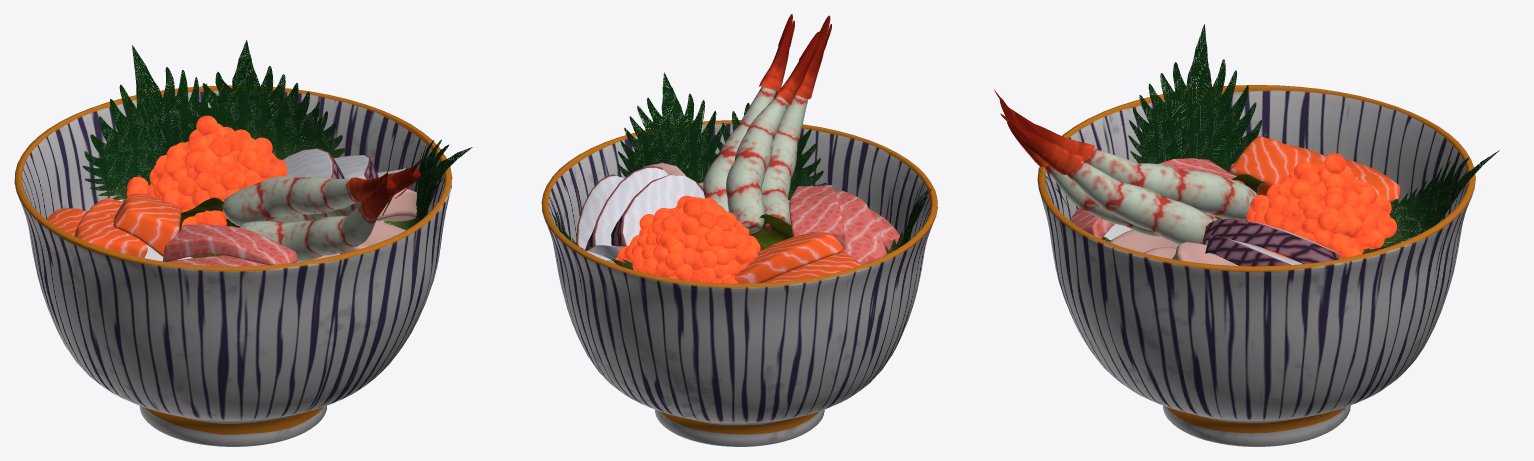
Rendered from sushi.glb.
3 renders of one model, left to right at view 1: azimuth 30°, elevation 25°; view 2: azimuth 150°, elevation 25°; view 3: azimuth 270°, elevation 25°, orthographic. The views are drawn at different scales.
Parts seen in each view (by area): view 1: Bowl.001, Shiso3.002, Ikura.001, Shiso2.002, Shrimp.001, Shrimp.002, Tuna1.006, Salmon1.012, Salmon1.011, Shiso1.006, Salmon1.013, Shrimp.003 (+6 smaller); view 2: Bowl.001, Ikura.001, Shiso1.006, Shrimp.001, Shrimp.002, Shrimp.003, Salmon1.012, Salmon1.013, Tuna1.006, Salmon1.014, Tuna1.005, Salmon1.015 (+5 smaller); view 3: Bowl.001, Shiso1.001, Ikura.001, Shrimp.003, Shrimp.001, Shiso3.002, Salmon1.013, Salmon1.012, Shrimp.002, Salmon1.014, Salmon2.003, Scallop1.006 (+3 smaller).
Boxes of the visible parts, x1=… form: Bowl.001: x1=14, y1=85, x2=452, y2=446; Shiso3.002: x1=82, y1=45, x2=233, y2=199; Ikura.001: x1=127, y1=115, x2=287, y2=228; Shiso2.002: x1=181, y1=40, x2=346, y2=159; Shrimp.001: x1=222, y1=173, x2=391, y2=225; Shrimp.002: x1=238, y1=168, x2=397, y2=261; Tuna1.006: x1=163, y1=224, x2=297, y2=265; Salmon1.012: x1=113, y1=193, x2=182, y2=256; Salmon1.011: x1=74, y1=198, x2=147, y2=257; Shiso1.006: x1=383, y1=139, x2=472, y2=229; Salmon1.013: x1=282, y1=148, x2=344, y2=178; Shrimp.003: x1=270, y1=158, x2=422, y2=222; Bowl.001: x1=541, y1=120, x2=937, y2=446; Ikura.001: x1=613, y1=195, x2=760, y2=283; Shiso1.006: x1=617, y1=72, x2=722, y2=183; Shrimp.001: x1=726, y1=31, x2=820, y2=234; Shrimp.002: x1=761, y1=15, x2=831, y2=231; Shrimp.003: x1=703, y1=14, x2=794, y2=211; Salmon1.012: x1=734, y1=232, x2=843, y2=283; Salmon1.013: x1=611, y1=174, x2=704, y2=250; Tuna1.006: x1=789, y1=185, x2=845, y2=250; Salmon1.014: x1=585, y1=166, x2=668, y2=260; Tuna1.005: x1=834, y1=190, x2=886, y2=264; Salmon1.015: x1=576, y1=174, x2=623, y2=263; Bowl.001: x1=1037, y1=85, x2=1475, y2=446; Shiso1.001: x1=1128, y1=24, x2=1267, y2=172; Ikura.001: x1=1246, y1=153, x2=1396, y2=260; Shrimp.003: x1=1000, y1=113, x2=1217, y2=244; Shrimp.001: x1=1007, y1=106, x2=1257, y2=220; Shiso3.002: x1=1363, y1=150, x2=1499, y2=253; Salmon1.013: x1=1202, y1=218, x2=1340, y2=263; Salmon1.012: x1=1229, y1=136, x2=1314, y2=195; Shrimp.002: x1=994, y1=89, x2=1215, y2=236; Salmon1.014: x1=1205, y1=235, x2=1302, y2=266; Salmon2.003: x1=1324, y1=155, x2=1400, y2=202; Scallop1.006: x1=1110, y1=229, x2=1178, y2=252.
Bounding box in the file's own units: 19.19 × 14.78 × 21.2.
Materials: 7 (6 with a texture image).
